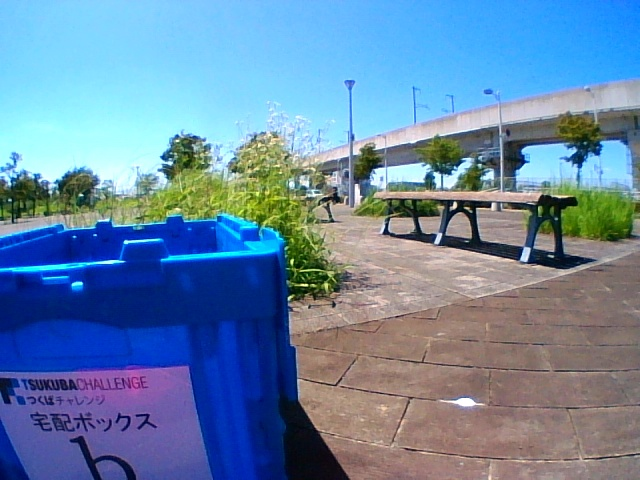blue_box: (1, 217, 294, 480)
tag_b: (49, 375, 183, 480)
